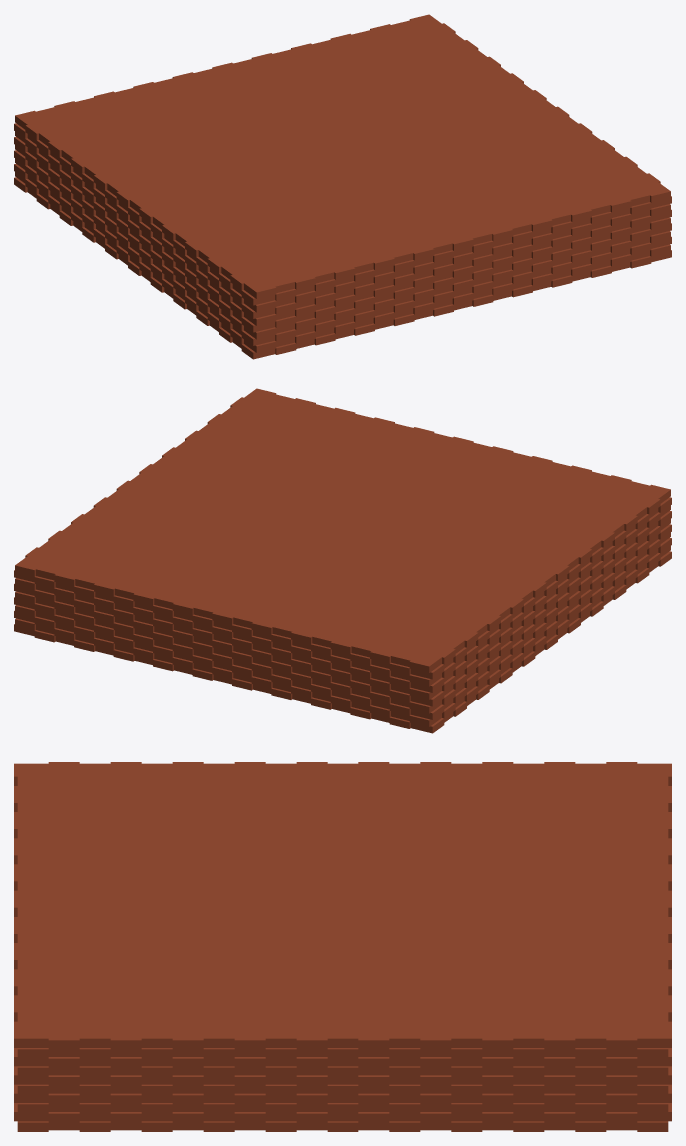
Rendered from brickwall.fbx.
3 renders of one model, top to bottom at view 1: azimuth 30°, elevation 25°; view 2: azimuth 150°, elevation 25°; view 3: azimuth 270°, elevation 25°, orthographic. The views are drawn at different scales.
Visible parts, largest first — view 1: Cube; view 2: Cube; view 3: Cube.
Boxes of the visible parts, bbox=[...] form: Cube: bbox=[14, 14, 671, 359]; Cube: bbox=[14, 388, 671, 733]; Cube: bbox=[14, 762, 671, 1131].
Size of the model in its own units: 1300 by 200 by 1300.
